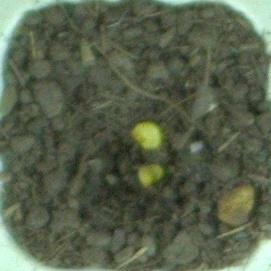chilli seed: (131, 121, 163, 151), (135, 162, 165, 189)
